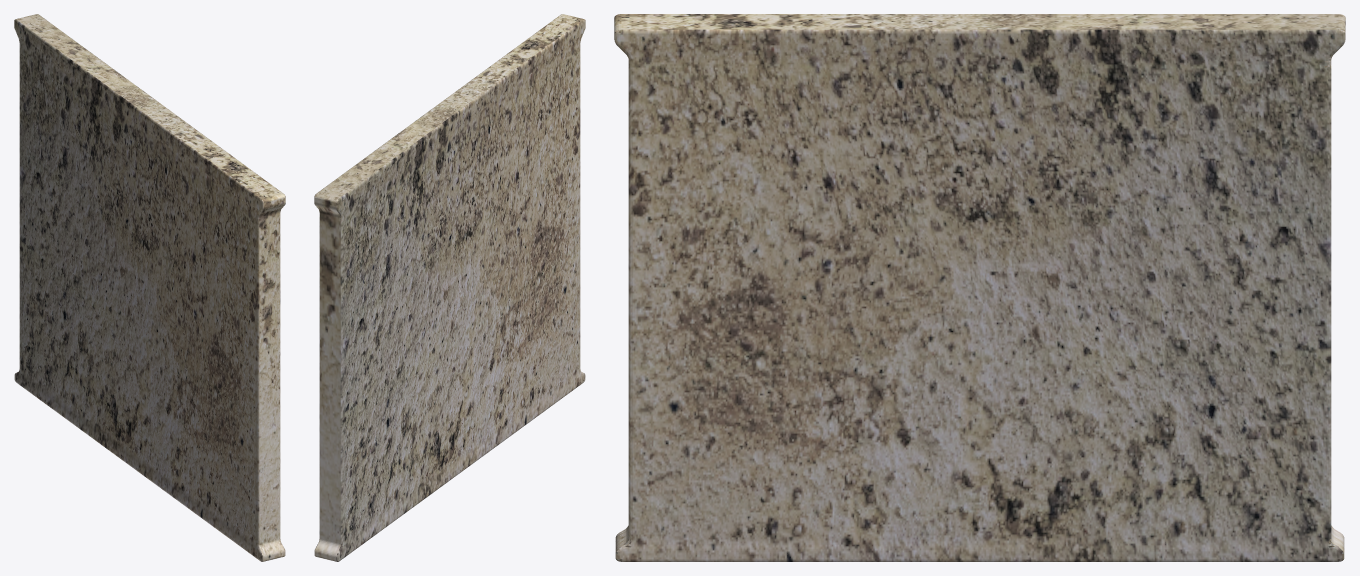
The model's file is Wall_Whole.fbx.
3 views of the same model, side by side, from view 1: azimuth 30°, elevation 25°; view 2: azimuth 150°, elevation 25°; view 3: azimuth 270°, elevation 25° (orthographic). The views are drawn at different scales.
Parts seen in each view (by area): view 1: Wall_Normal; view 2: Wall_Normal; view 3: Wall_Normal.
Part boxes in pixels (x1=…): Wall_Normal: x1=14, y1=14, x2=285, y2=561; Wall_Normal: x1=314, y1=14, x2=585, y2=561; Wall_Normal: x1=614, y1=14, x2=1345, y2=561.
Size of the model in its own units: 102 by 1456 by 1813.
Materials: 1 (1 with a texture image).
